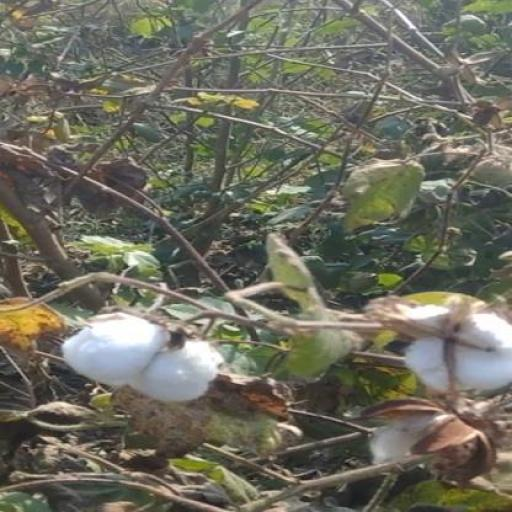cotton_ready: (62, 296, 232, 414), (361, 303, 504, 402)
